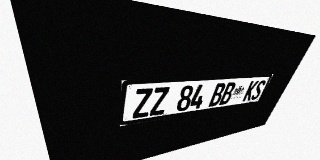4: (189, 84, 208, 110)
8: (175, 85, 195, 112)
B: (208, 83, 227, 107), (219, 82, 237, 105)
K: (242, 80, 259, 101)
S: (250, 80, 267, 100)
Z: (132, 88, 153, 119), (149, 87, 170, 116)
